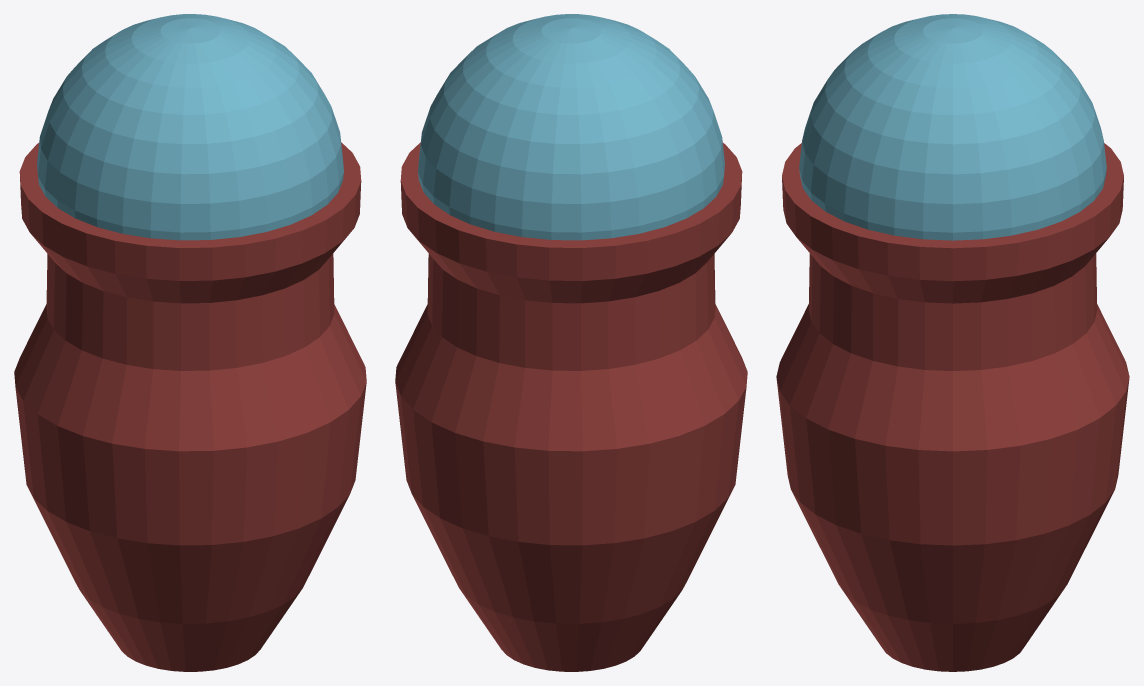
File: SK_P_Smashroom_02_Lvl3.fbx
The picture shows the model from 3 angles, left to right: view 1: azimuth 30°, elevation 25°; view 2: azimuth 150°, elevation 25°; view 3: azimuth 270°, elevation 25°; orthographic projection.
Parts seen in each view (by area): view 1: Pot_02_Lvl3; view 2: Pot_02_Lvl3; view 3: Pot_02_Lvl3.
Boxes of the visible parts, x1,y1,x2,y2 form: Pot_02_Lvl3: (14,14,366,671); Pot_02_Lvl3: (395,14,747,671); Pot_02_Lvl3: (776,14,1129,671).
Size of the model in its own units: 59.83 by 59.83 by 115.
